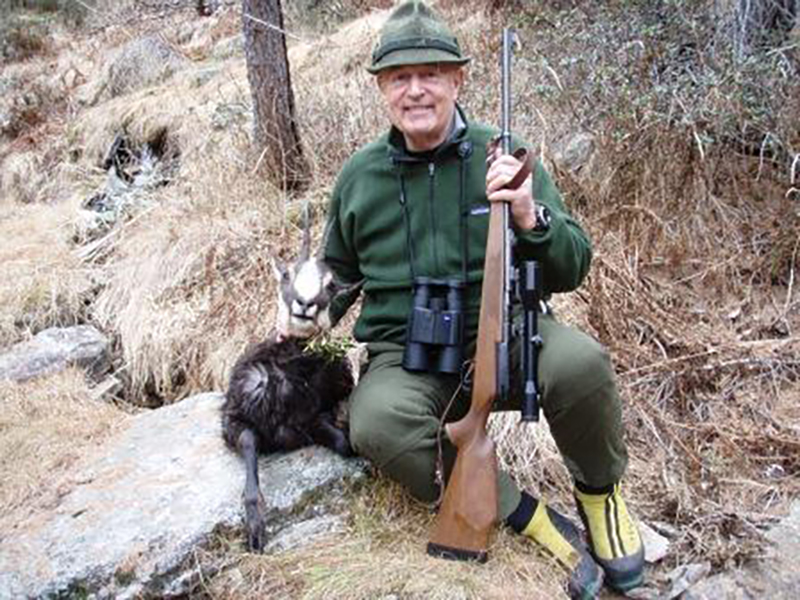cacciatore: (322, 3, 657, 600)
